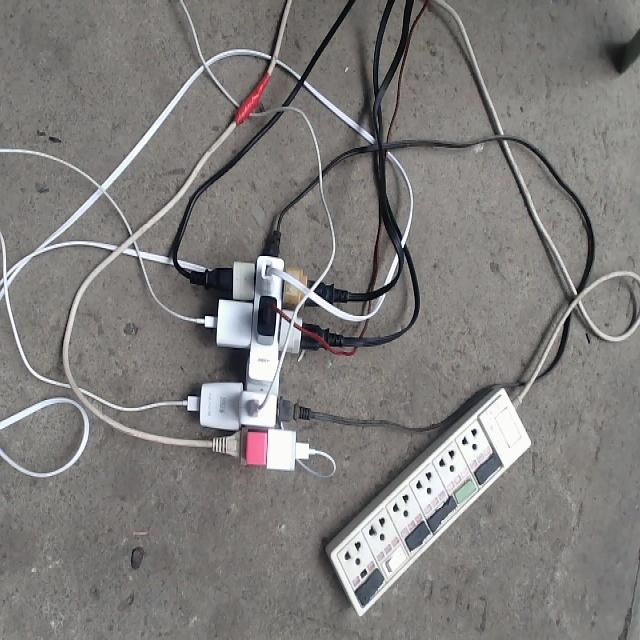-: (196, 248, 315, 471)
